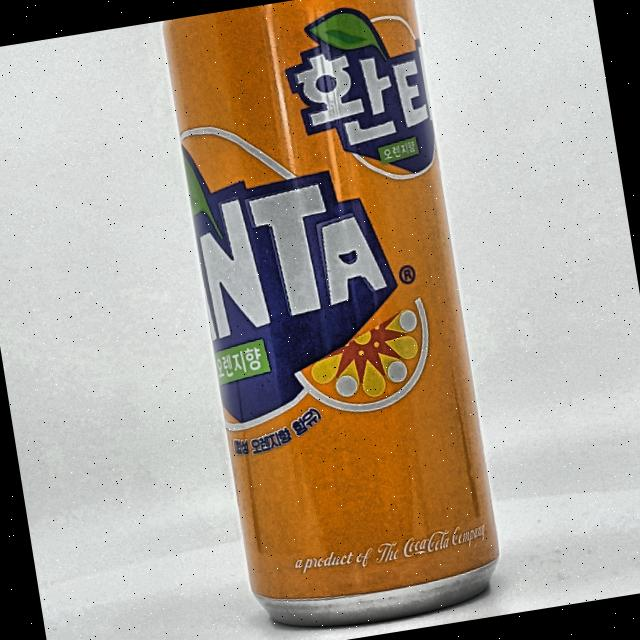fantaorange: (146, 0, 521, 640)
